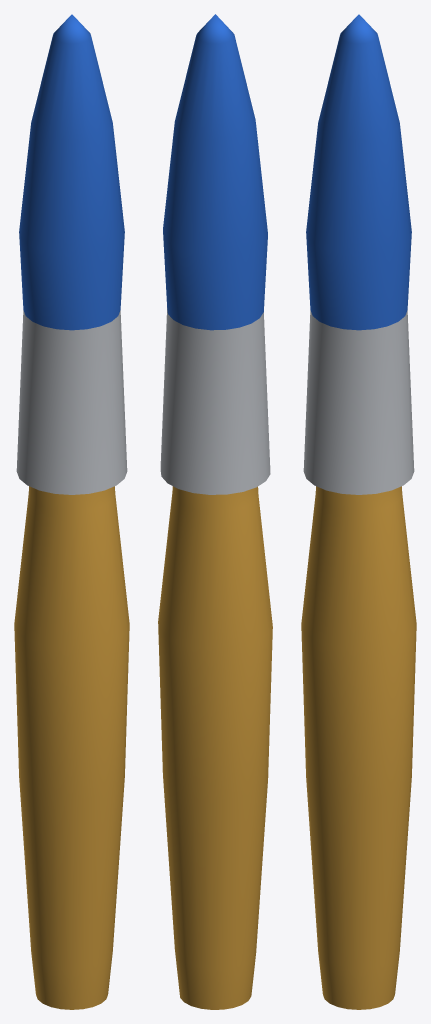
File: paintbrush.glb
3 renders of one model, left to right at view 1: azimuth 90°, elevation 25°; view 2: azimuth 210°, elevation 25°; view 3: azimuth 270°, elevation 25°, orthographic.
Parts seen in each view (by area): view 1: paintbrush; view 2: paintbrush; view 3: paintbrush.
Part boxes in pixels (left/top/right/bottom): paintbrush: left=14, top=14, right=129, bottom=1009; paintbrush: left=158, top=14, right=272, bottom=1009; paintbrush: left=301, top=14, right=416, bottom=1009.
Bounding box in the file's own units: 0.0096 × 0.09 × 0.0096.
